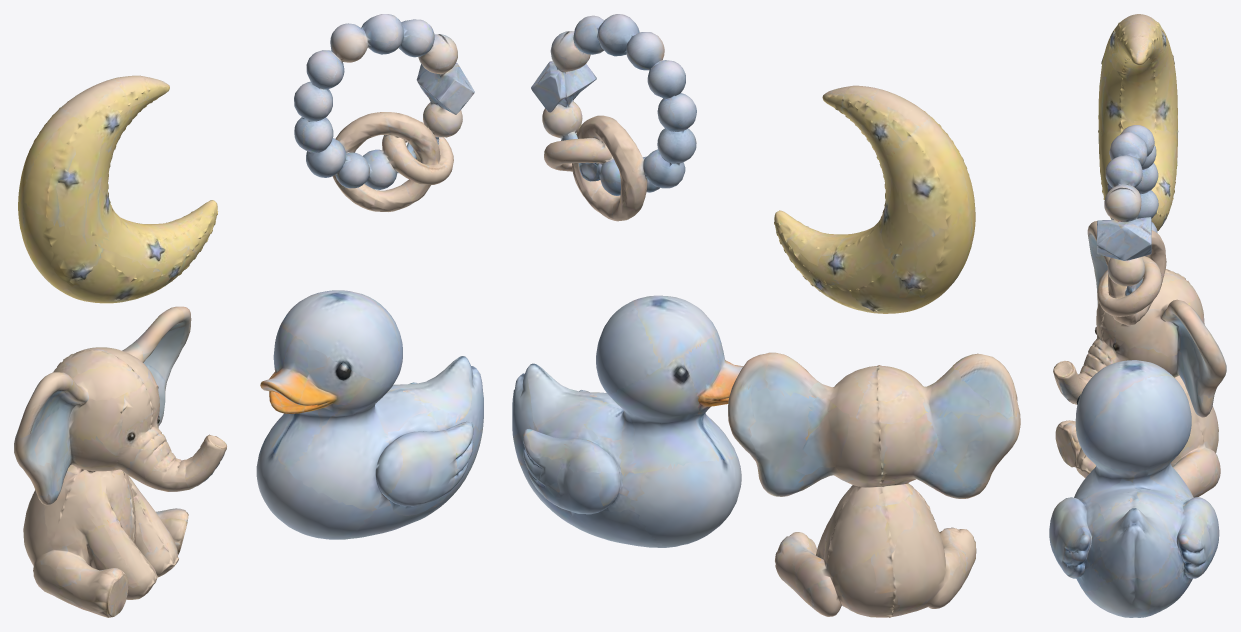
3 views of the same model, side by side, from view 1: azimuth 30°, elevation 25°; view 2: azimuth 150°, elevation 25°; view 3: azimuth 270°, elevation 25° (orthographic). The views are drawn at different scales.
Visible parts, largest first — view 1: Mesh 3, Mesh 1, Mesh 2, Mesh 4; view 2: Mesh 1, Mesh 3, Mesh 2, Mesh 4; view 3: Mesh 3, Mesh 1, Mesh 2, Mesh 4.
Boxes of the visible parts, box(x1,y1,x2,y2) form: Mesh 3: box(256, 290, 483, 539); Mesh 1: box(14, 306, 226, 617); Mesh 2: box(18, 75, 217, 303); Mesh 4: box(294, 14, 474, 211); Mesh 1: box(728, 352, 1020, 617); Mesh 3: box(512, 295, 743, 547); Mesh 2: box(774, 85, 975, 313); Mesh 4: box(531, 14, 696, 221); Mesh 3: box(1049, 360, 1219, 617); Mesh 1: box(1053, 221, 1226, 497); Mesh 2: box(1098, 14, 1178, 231); Mesh 4: box(1096, 125, 1166, 325).
Size of the model in its own units: 1.9 by 1.9 by 0.6533.
4 materials, 4 textured.
